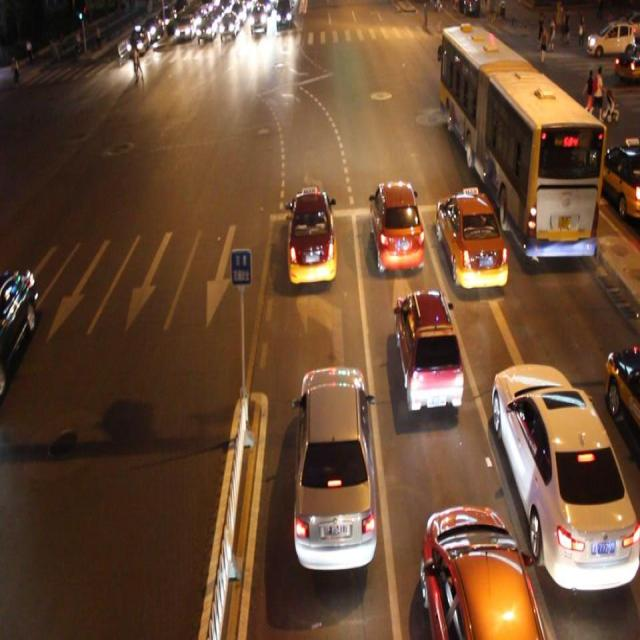car: (490, 363, 640, 591), (293, 364, 376, 574), (420, 503, 542, 640), (393, 288, 461, 411), (436, 192, 506, 290), (369, 180, 424, 272), (286, 186, 336, 286), (1, 266, 38, 394), (598, 134, 640, 219), (602, 343, 640, 435)
van: (439, 19, 604, 265)
